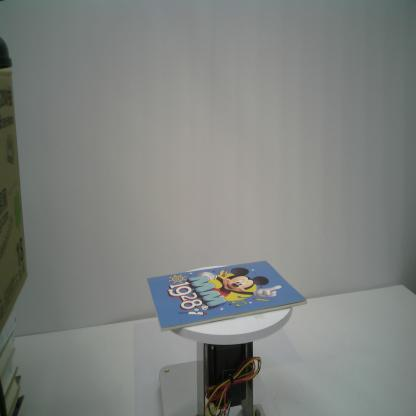Stationery: (147, 261, 308, 333)
